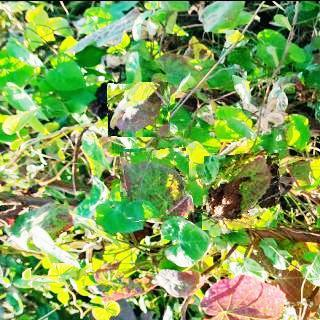leaf spot: (199, 152, 281, 232), (119, 147, 192, 219), (108, 81, 170, 136)
